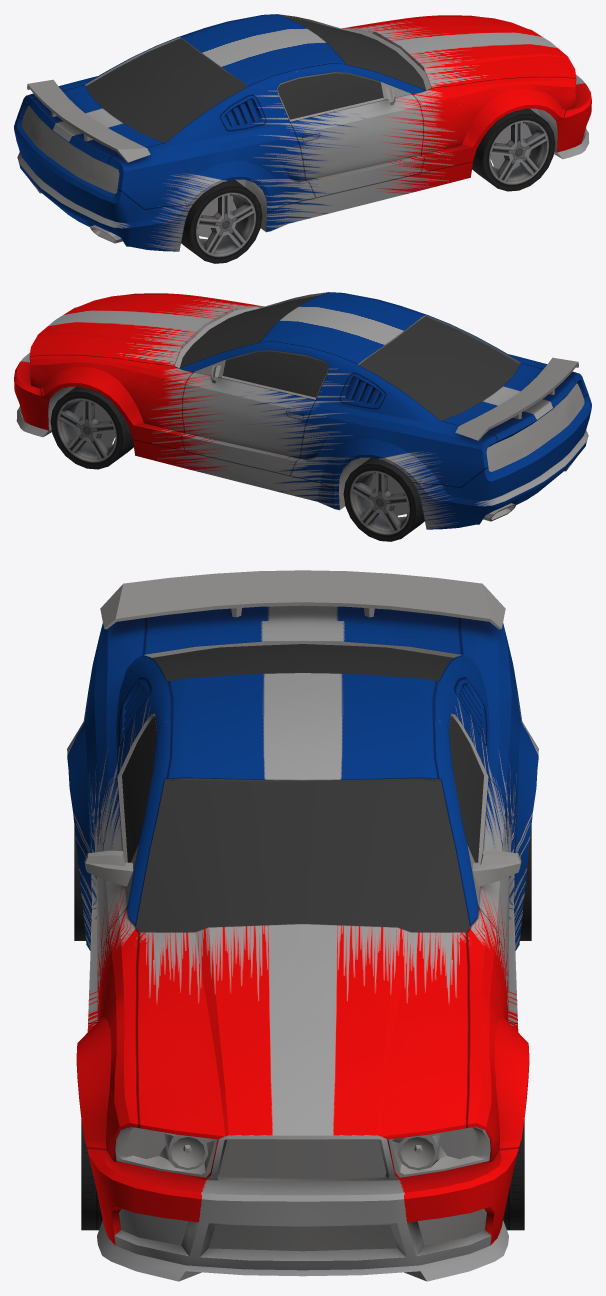
File: car_5.FBX
3 renders of one model, top to bottom at view 1: azimuth 30°, elevation 25°; view 2: azimuth 150°, elevation 25°; view 3: azimuth 270°, elevation 25°, orthographic. The views are drawn at different scales.
Visible parts, largest first — view 1: car_5; view 2: car_5; view 3: car_5.
Boxes of the visible parts, x1=… form: car_5: x1=14, y1=14, x2=591, y2=263; car_5: x1=14, y1=292, x2=591, y2=541; car_5: x1=67, y1=570, x2=538, y2=1281.
Bounding box in the file's own units: 71.61 × 20.8 × 28.52.
